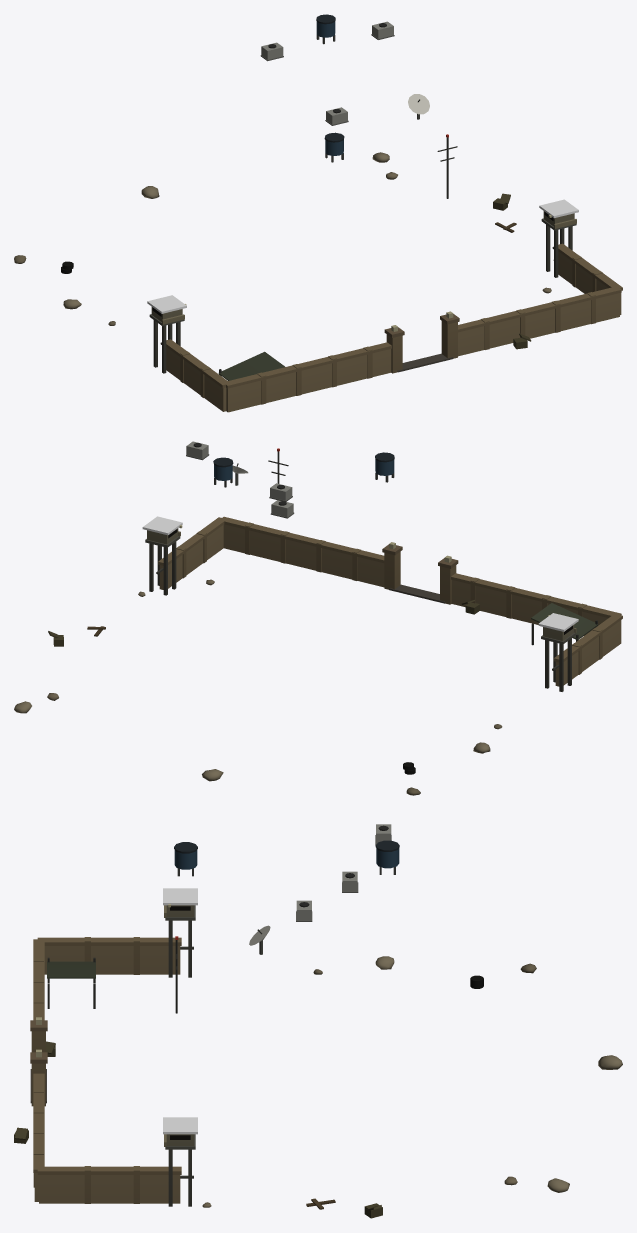
3 renders of one model, top to bottom at view 1: azimuth 30°, elevation 25°; view 2: azimuth 150°, elevation 25°; view 3: azimuth 270°, elevation 25°, orthographic. The views are drawn at different scales.
Visible parts, largest first — view 1: mesh; view 2: mesh; view 3: mesh.
Boxes of the visible parts, box(x1,y1,x2,y2) form: mesh: box(14, 14, 622, 412); mesh: box(14, 441, 622, 795); mesh: box(14, 824, 622, 1218).
Bounding box in the file's own units: 112 × 54.96 × 112.
